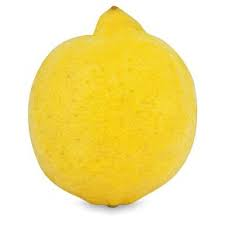lemon: (25, 6, 212, 225)
